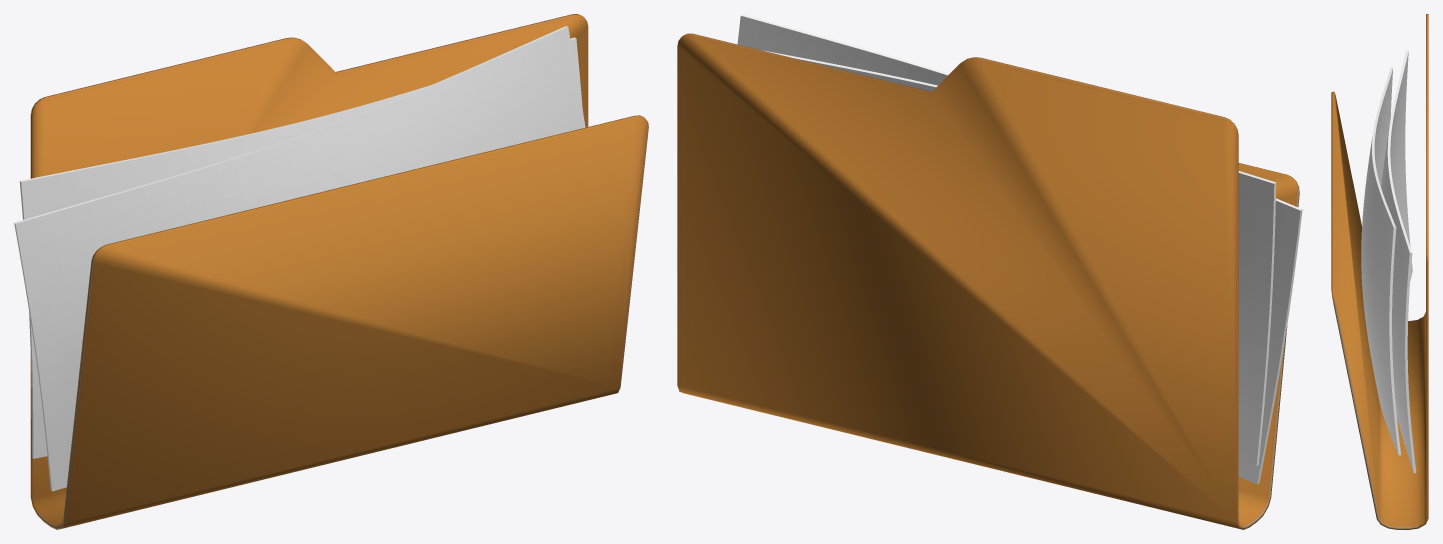
3 views of the same model, side by side, from view 1: azimuth 30°, elevation 25°; view 2: azimuth 150°, elevation 25°; view 3: azimuth 270°, elevation 25° (orthographic). The views are drawn at different scales.
Parts seen in each view (by area): view 1: Plane.001; view 2: Plane.001; view 3: Plane.001.
Part boxes in pixels (x1=…): Plane.001: x1=14, y1=14, x2=648, y2=529; Plane.001: x1=677, y1=14, x2=1302, y2=529; Plane.001: x1=1331, y1=14, x2=1428, y2=529.
Size of the model in its own units: 196 by 129 by 36.31.
1 material, 1 textured.
